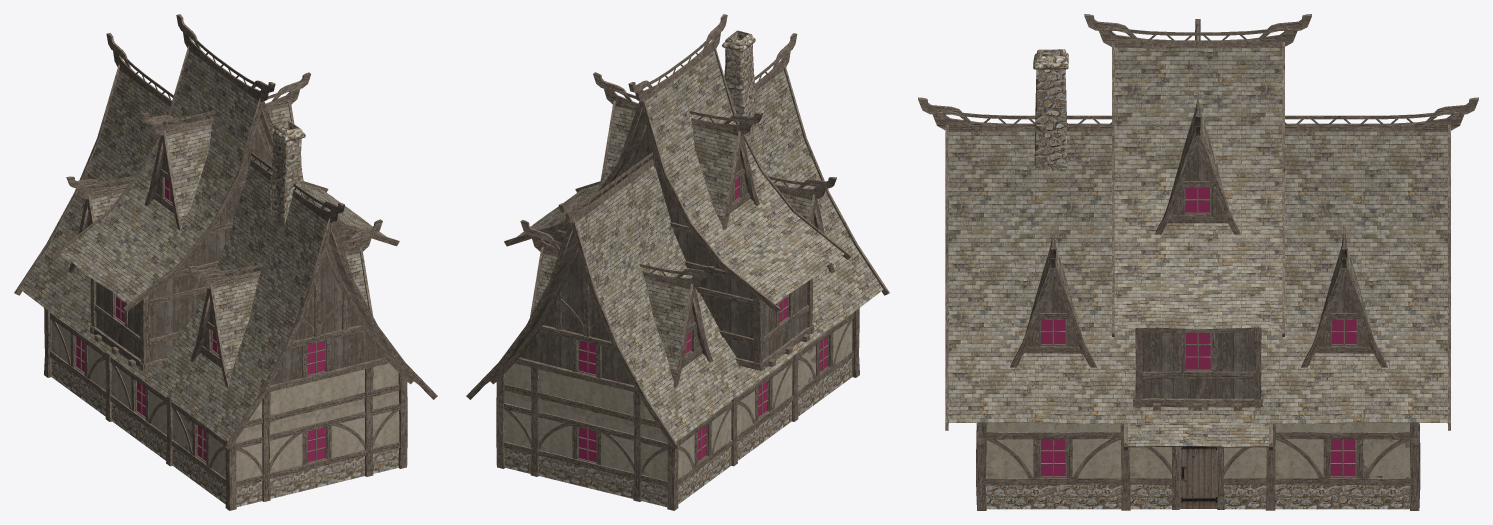
The model's file is mw_type_2_cottage_08.FBX.
The picture shows the model from 3 angles, left to right: view 1: azimuth 30°, elevation 25°; view 2: azimuth 150°, elevation 25°; view 3: azimuth 270°, elevation 25°; orthographic projection. The views are drawn at different scales.
Visible parts, largest first — view 1: mw_type_2_cottage_building_08_roof, mw_type_2_cottage_building_08_wood, mw_type_2_cottage_building_08_wall, mw_type_2_cottage_building_08_stone_01, mw_type_2_cottage_building_08; view 2: mw_type_2_cottage_building_08_roof, mw_type_2_cottage_building_08_wood, mw_type_2_cottage_building_08_wall, mw_type_2_cottage_building_08_stone_01, mw_type_2_cottage_building_08; view 3: mw_type_2_cottage_building_08_roof, mw_type_2_cottage_building_08_wood, mw_type_2_cottage_building_08_stone_01, mw_type_2_cottage_building_08_wall, mw_type_2_cottage_building_08.
Boxes of the visible parts, left/top/right/bottom form: mw_type_2_cottage_building_08_roof: left=20, top=51, right=417, bottom=441; mw_type_2_cottage_building_08_wood: left=14, top=14, right=437, bottom=510; mw_type_2_cottage_building_08_wall: left=51, top=320, right=399, bottom=481; mw_type_2_cottage_building_08_stone_01: left=51, top=121, right=398, bottom=506; mw_type_2_cottage_building_08: left=74, top=177, right=326, bottom=463; mw_type_2_cottage_building_08_roof: left=486, top=51, right=883, bottom=441; mw_type_2_cottage_building_08_wood: left=466, top=14, right=889, bottom=510; mw_type_2_cottage_building_08_wall: left=504, top=320, right=852, bottom=481; mw_type_2_cottage_building_08_stone_01: left=505, top=30, right=852, bottom=506; mw_type_2_cottage_building_08: left=577, top=177, right=829, bottom=463; mw_type_2_cottage_building_08_roof: left=948, top=47, right=1447, bottom=447; mw_type_2_cottage_building_08_wood: left=918, top=14, right=1478, bottom=510; mw_type_2_cottage_building_08_stone_01: left=985, top=49, right=1410, bottom=509; mw_type_2_cottage_building_08_wall: left=986, top=422, right=1410, bottom=478; mw_type_2_cottage_building_08: left=1039, top=187, right=1357, bottom=508.
Bounding box in the file's own units: 1330 × 1716 × 1963.
